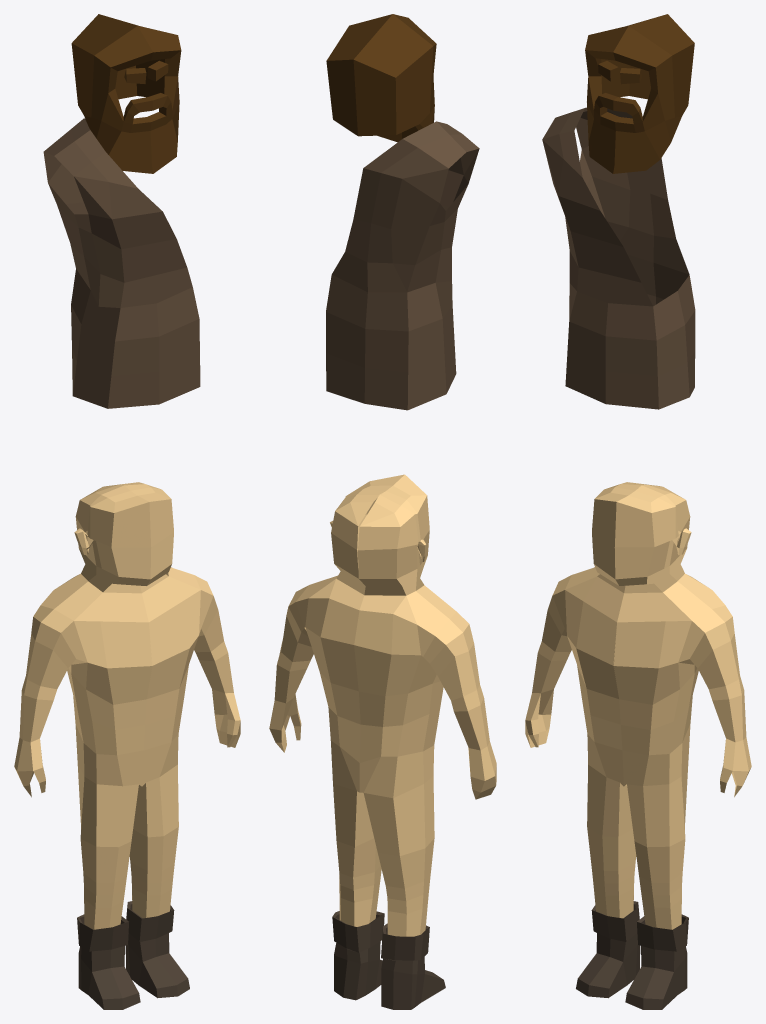
The model's file is Uncle.fbx.
The picture shows the model from 3 angles, left to right: view 1: azimuth 30°, elevation 25°; view 2: azimuth 150°, elevation 25°; view 3: azimuth 330°, elevation 25°; orthographic projection.
Visible parts, largest first — view 1: Base Model, Rope, Hair, Boots; view 2: Base Model, Rope, Hair, Boots; view 3: Base Model, Rope, Hair, Boots.
Boxes of the visible parts, <box> form: Base Model: <box>14,482,240,929</box>; Rope: <box>43,118,200,408</box>; Hair: <box>71,14,181,173</box>; Boots: <box>77,901,189,1009</box>; Base Model: <box>269,474,496,936</box>; Rope: <box>326,121,479,410</box>; Hair: <box>326,14,436,142</box>; Boots: <box>332,911,445,1009</box>; Base Model: <box>525,482,751,929</box>; Rope: <box>542,107,695,409</box>; Hair: <box>585,14,694,173</box>; Boots: <box>576,901,688,1009</box>.
Bounding box in the file's own units: 86.83 × 361 × 44.57.
